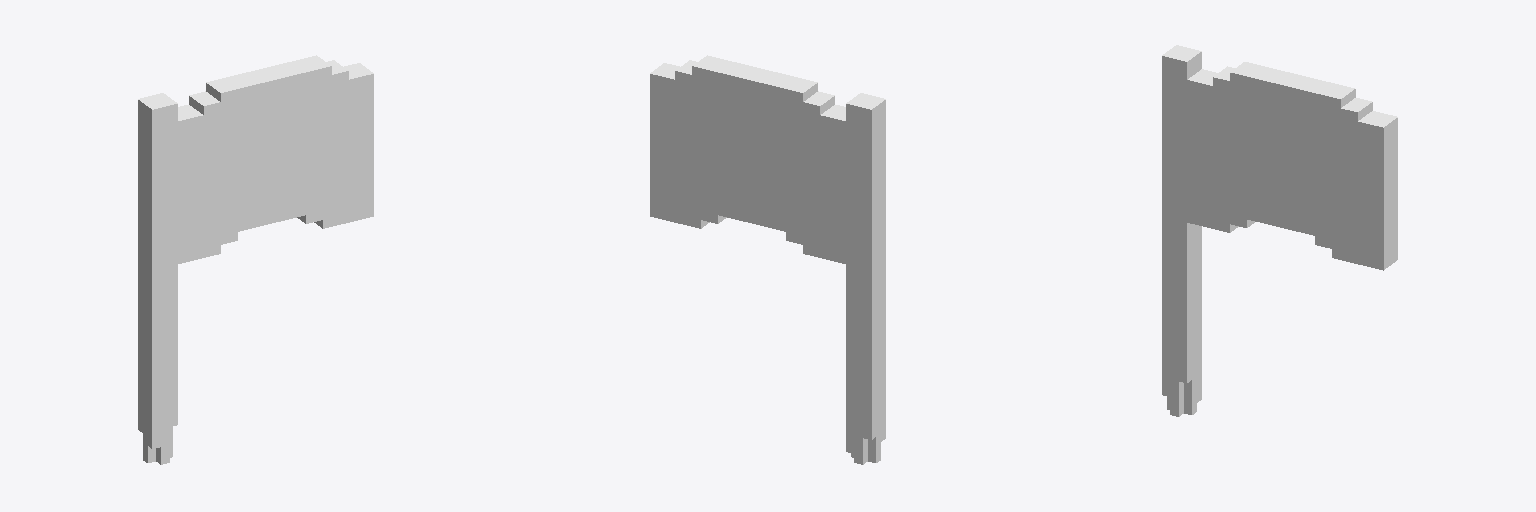
The model's file is flag2.obj.
The picture shows the model from 3 angles: view 1: azimuth 30°, elevation 25°; view 2: azimuth 150°, elevation 25°; view 3: azimuth 330°, elevation 25°; orthographic projection.
Visible parts, largest first — view 1: object 1; view 2: object 1; view 3: object 1.
Boxes of the visible parts, x1=… form: object 1: x1=138, y1=55, x2=373, y2=464; object 1: x1=650, y1=55, x2=885, y2=464; object 1: x1=1162, y1=45, x2=1397, y2=416.
Bounding box in the file's own units: 2.6 × 4 × 0.3.